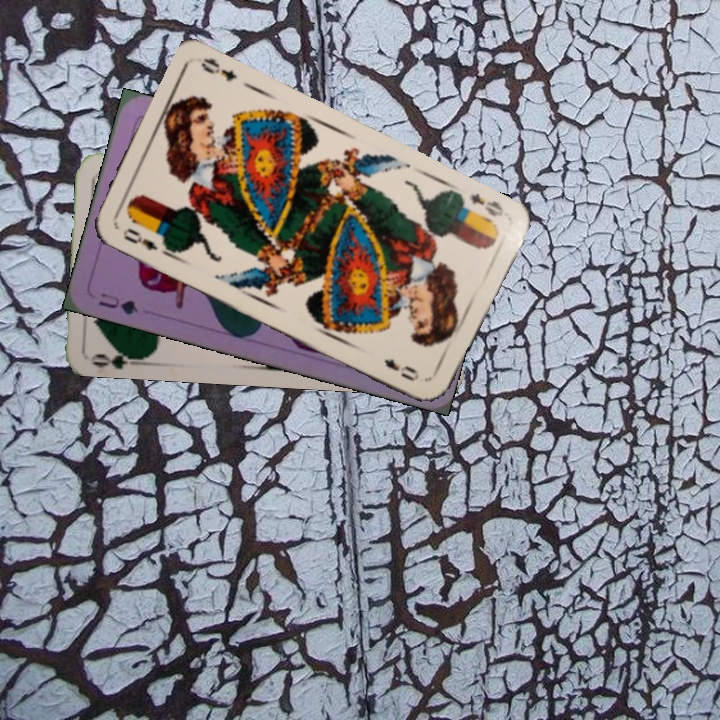EO: (118, 224, 161, 254), (467, 189, 507, 220)
GO: (89, 342, 148, 370)
GU: (94, 289, 141, 318)
